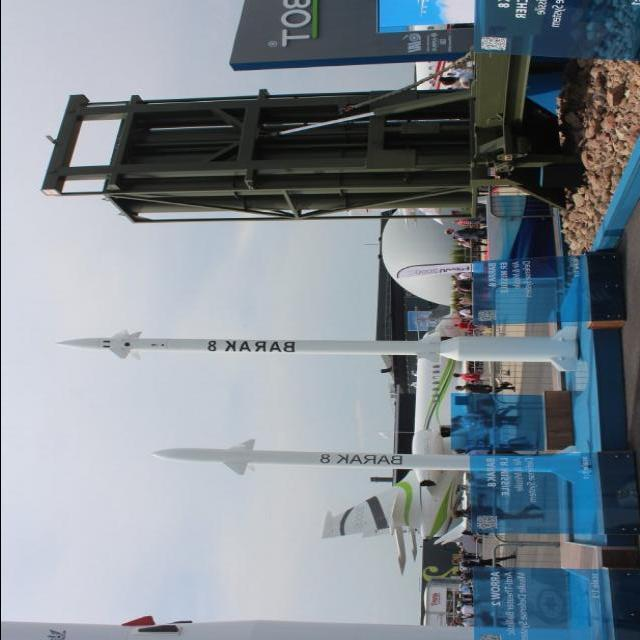missile: (55, 334, 583, 376), (155, 439, 588, 489)
